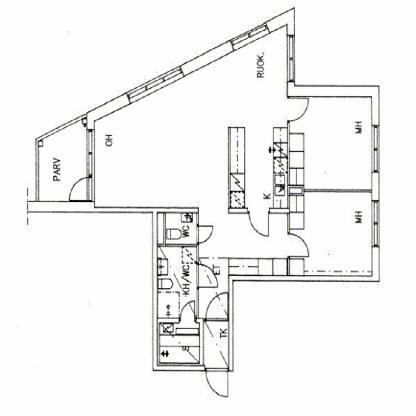bathroom: (155, 245, 197, 322), (156, 207, 198, 245)
door: (64, 171, 99, 206), (204, 289, 235, 326), (201, 368, 232, 402), (284, 91, 314, 126), (242, 205, 272, 238), (190, 262, 220, 292), (281, 231, 310, 260), (193, 220, 217, 249), (179, 299, 202, 323)
perimeter: (34, 8, 379, 373)
window: (122, 61, 192, 110), (224, 18, 274, 58), (366, 122, 384, 175), (283, 32, 299, 88), (368, 197, 384, 251), (84, 128, 100, 169)
